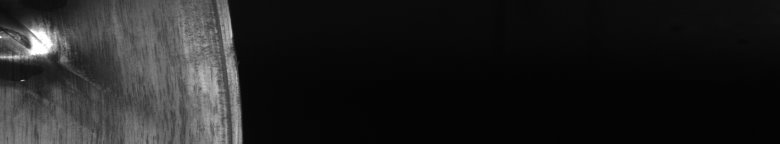ke: (4, 20, 86, 92)
